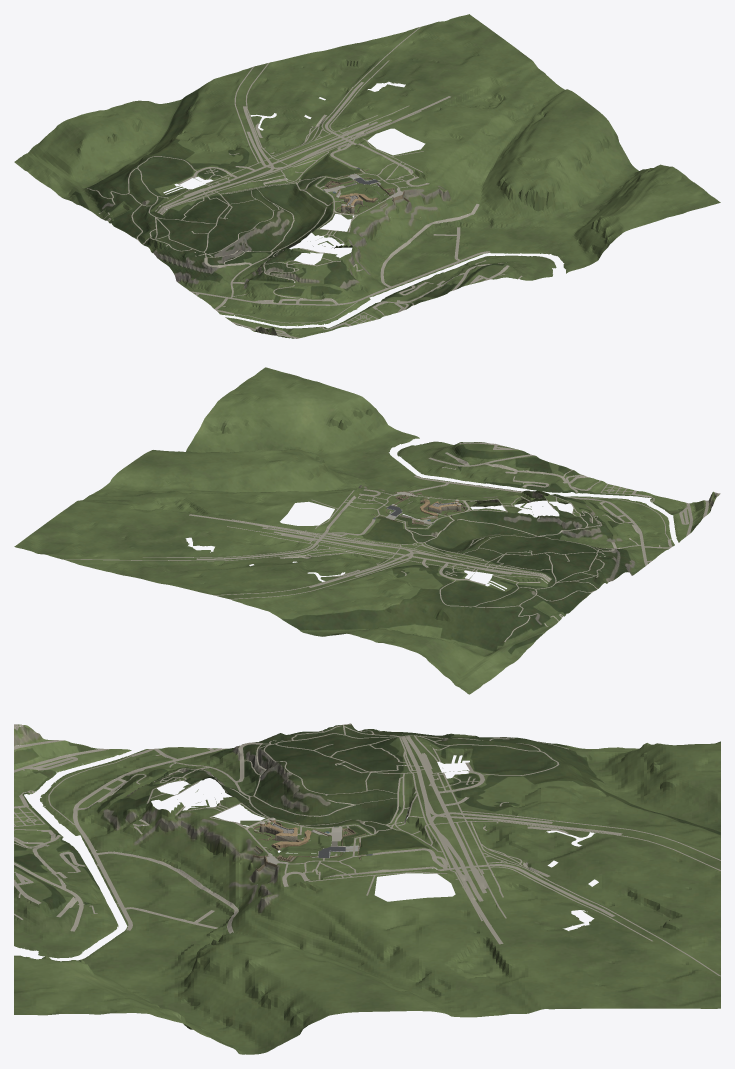
File: authored-near.glb
The picture shows the model from 3 angles, top to bottom: view 1: azimuth 30°, elevation 25°; view 2: azimuth 150°, elevation 25°; view 3: azimuth 270°, elevation 25°; orthographic projection. The views are drawn at different scales.
Parts seen in each view (by area): view 1: R154_FAR_GROUND, R154_FAR_ROADS, R152_CLASS2_TERRAIN; view 2: R154_FAR_GROUND, R154_FAR_ROADS, R152_CLASS2_TERRAIN; view 3: R154_FAR_GROUND, R154_FAR_ROADS, R152_CLASS2_TERRAIN.
Part boxes in pixels (x1,y1,x2,y2): R154_FAR_GROUND: [14, 14, 720, 338]; R154_FAR_ROADS: [87, 27, 522, 338]; R152_CLASS2_TERRAIN: [301, 163, 421, 220]; R154_FAR_GROUND: [14, 367, 718, 694]; R154_FAR_ROADS: [63, 442, 720, 641]; R152_CLASS2_TERRAIN: [357, 492, 476, 537]; R154_FAR_GROUND: [14, 724, 720, 1054]; R154_FAR_ROADS: [14, 723, 720, 976]; R152_CLASS2_TERRAIN: [240, 820, 372, 897].
Size of the model in its own units: 1150 by 94.37 by 1100.
Materials: 54 (17 with a texture image).
